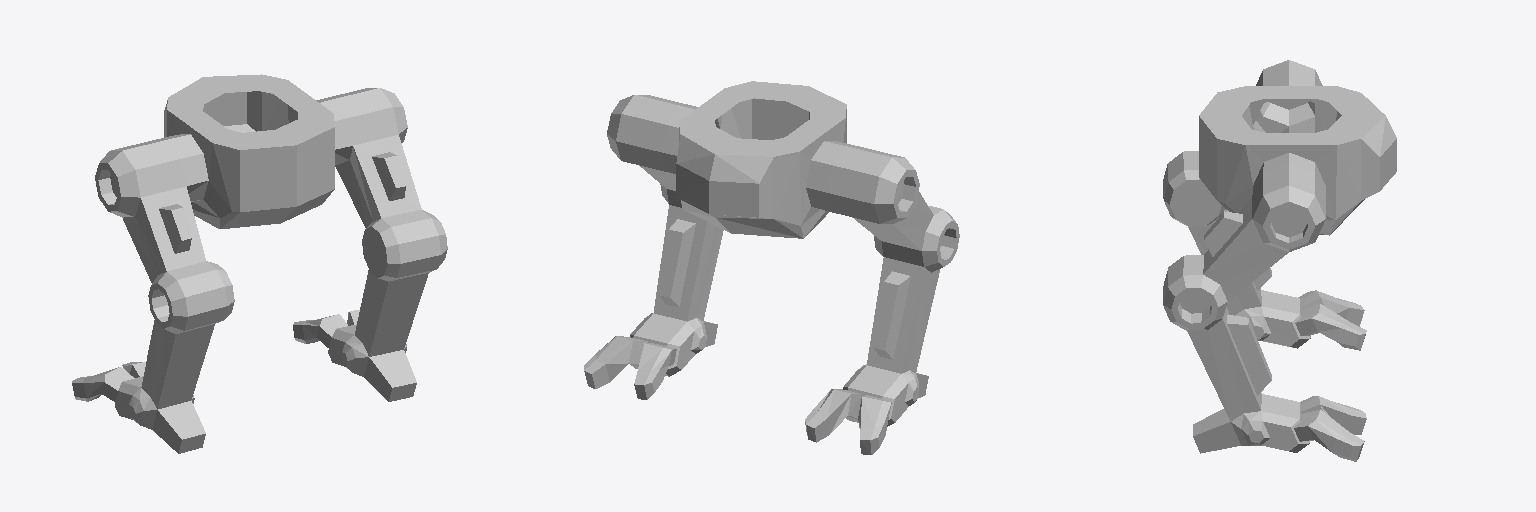
Rendered from main_char_legs.obj.
3 views of the same model, side by side, from view 1: azimuth 30°, elevation 25°; view 2: azimuth 150°, elevation 25°; view 3: azimuth 270°, elevation 25° (orthographic).
Visible parts, largest first — view 1: Cube; view 2: Cube; view 3: Cube.
Part boxes in pixels (x1,y1,x2,y2): Cube: (72, 74, 447, 453); Cube: (584, 81, 959, 454); Cube: (1163, 60, 1396, 461).
Size of the model in its own units: 2.5 by 2.28 by 1.73.